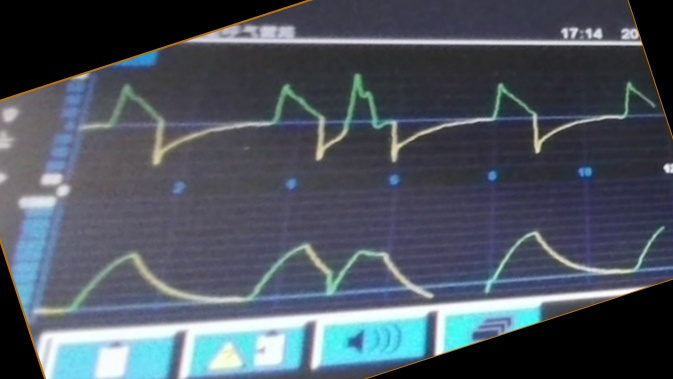Double_Triggering Flow: (106, 71, 650, 166)
Double_Triggering Volume: (74, 223, 665, 305)
